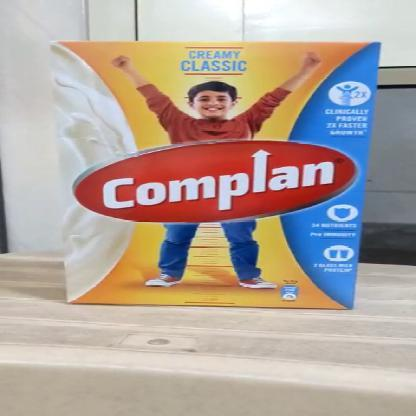Complan Classic Creme: (57, 40, 378, 310)
